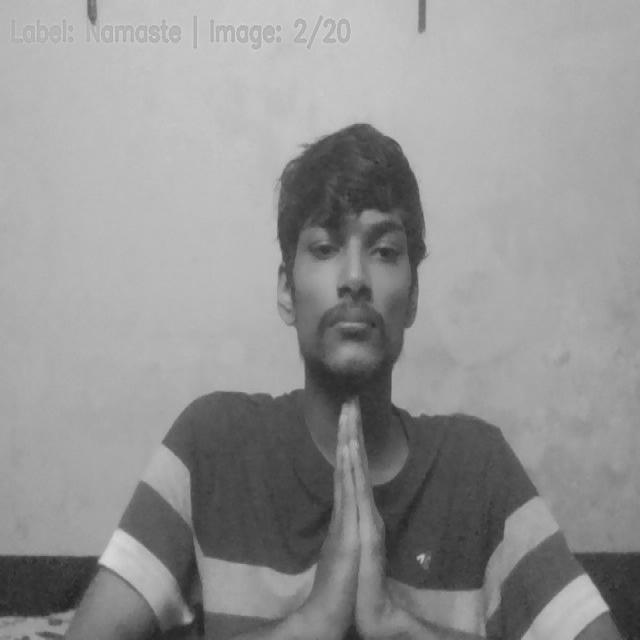Namaste: (309, 388, 402, 635)
